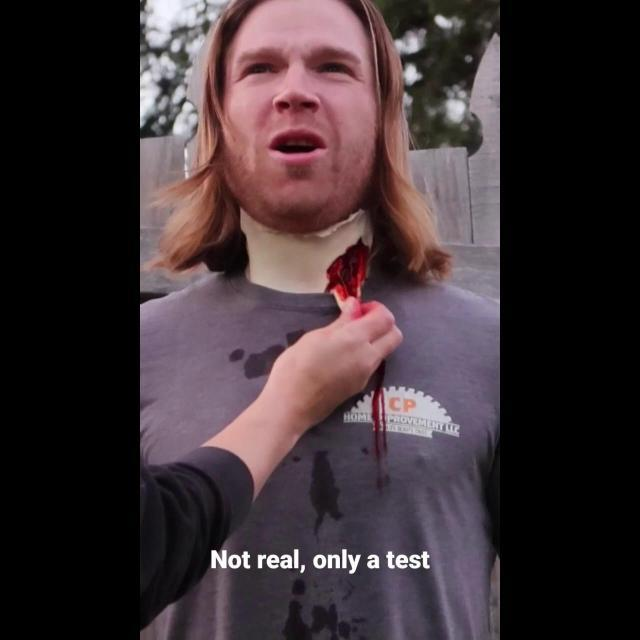blood: (324, 238, 370, 304), (372, 360, 388, 491)
